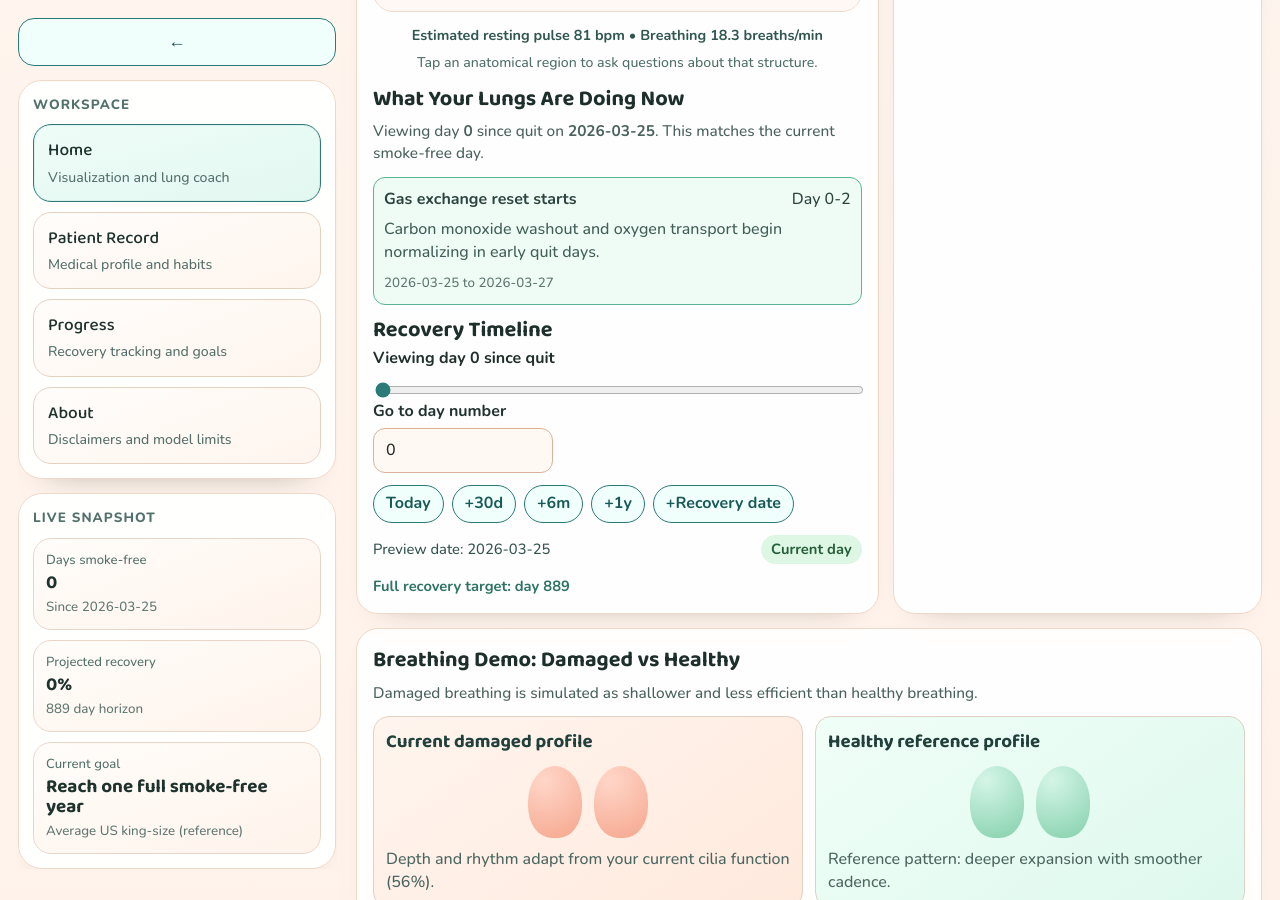
Scenario: App › updates the home-page recovery stage when the timeline selection changes
The width and height of the screenshot is (1280, 900).
(page scrolled)
Expected: the text "Gas exchange reset starts" is shown, [384,188,577,211]
Replace the text in the number field labelled "Go to day number" with "30" at (463, 451), box [373,428,553,474]
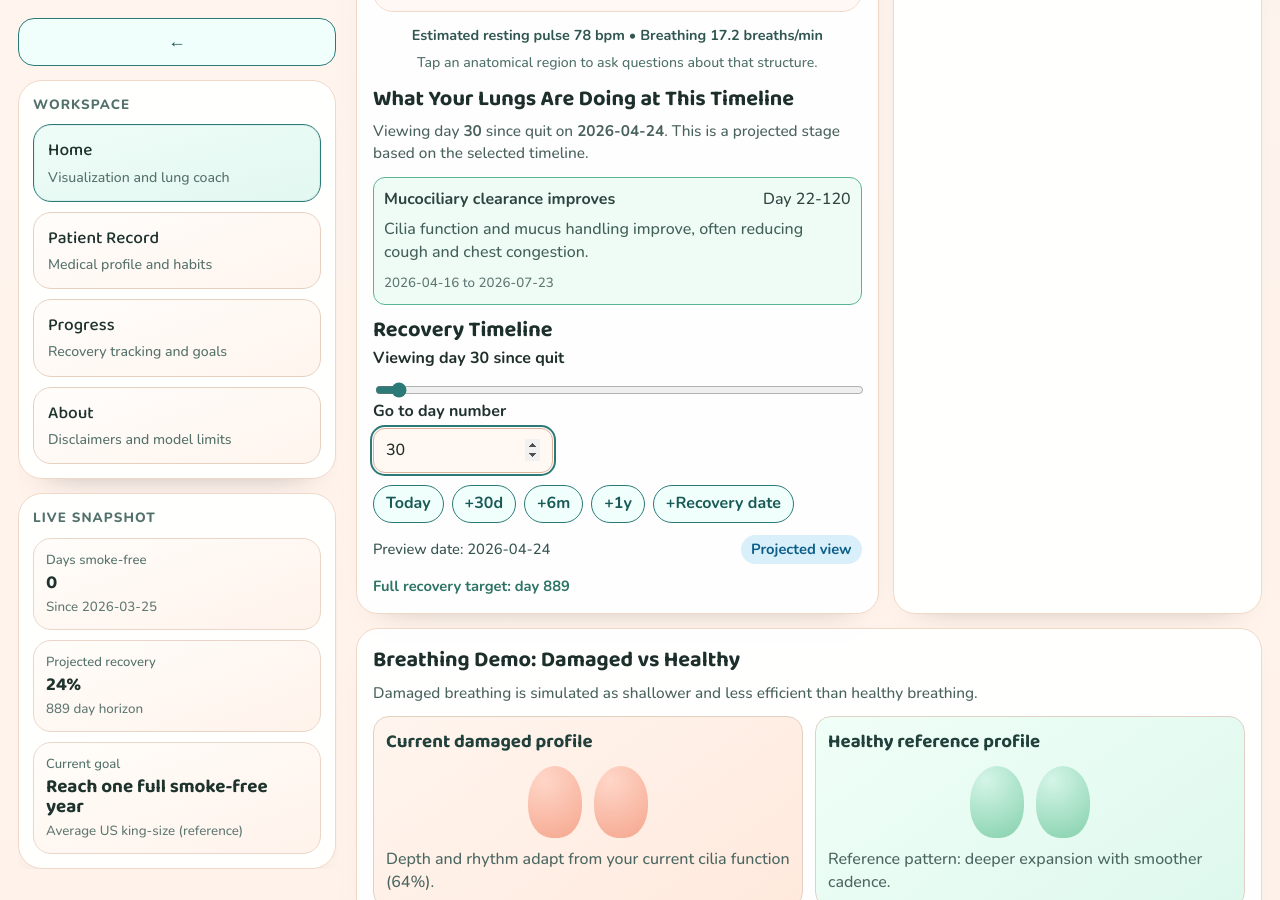
Expected: the text "Mucociliary clearance improves" is shown, [384,188,615,211]
